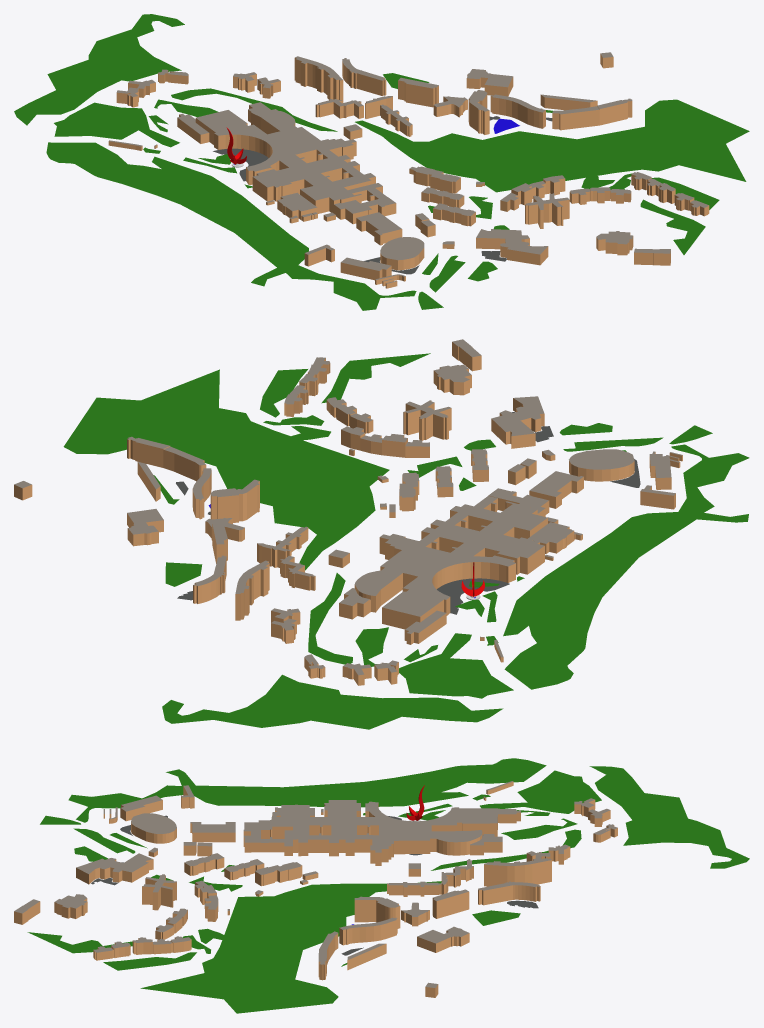
Rendered from HKUST_3D.glb.
3 views of the same model, one above another, from view 1: azimuth 30°, elevation 25°; view 2: azimuth 150°, elevation 25°; view 3: azimuth 270°, elevation 25° (orthographic). The views are drawn at different scales.
Parts seen in each view (by area): view 1: map_2.osm_forest, map_2.osm_buildings, map_2.osm_areas_pedestrian; view 2: map_2.osm_forest, map_2.osm_buildings, map_2.osm_areas_pedestrian; view 3: map_2.osm_forest, map_2.osm_buildings.
Part boxes in pixels (x1,y1,x2,y2): map_2.osm_forest: (14,14,749,310); map_2.osm_buildings: (108,52,709,288); map_2.osm_areas_pedestrian: (213,116,499,274); map_2.osm_forest: (63,353,749,729); map_2.osm_buildings: (14,339,682,685); map_2.osm_areas_pedestrian: (208,459,640,614); map_2.osm_forest: (27,758,749,1013); map_2.osm_buildings: (14,781,617,997).
Size of the model in its own units: 248 by 15.06 by 302.
